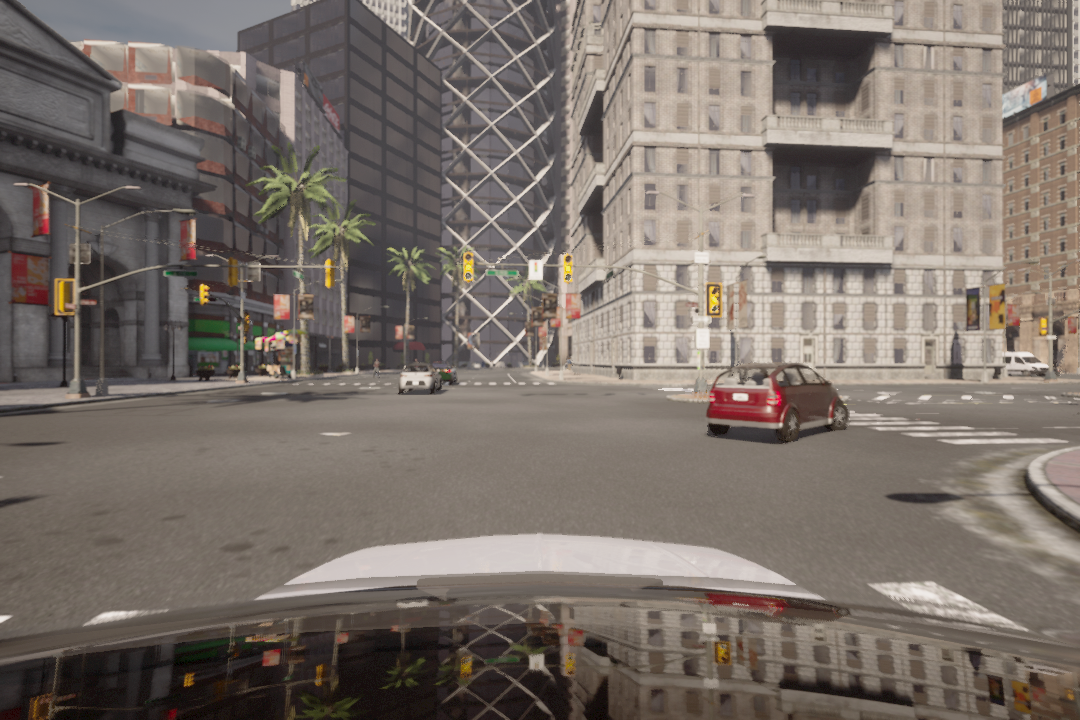TrafficLight: (705, 284, 723, 324), (561, 254, 579, 290), (461, 253, 475, 285)
walkside: (802, 403, 1065, 450), (278, 378, 564, 391)
